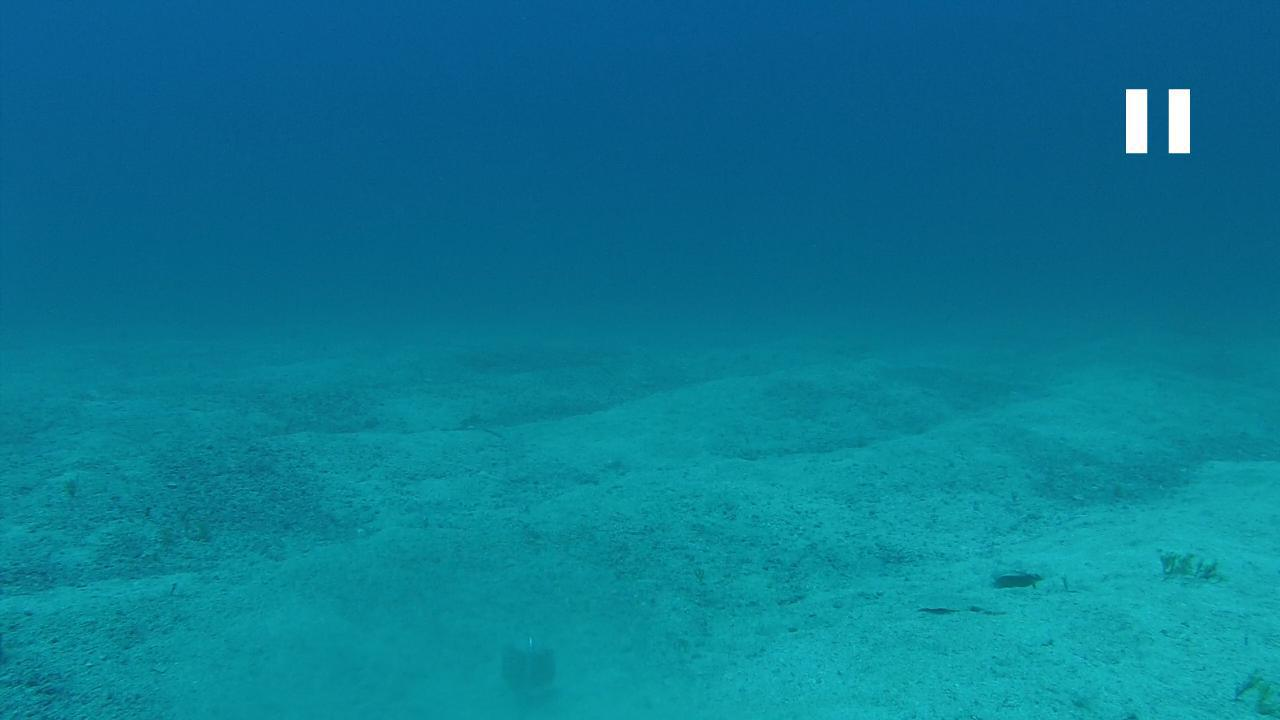bothus: (902, 586, 1012, 617), (974, 552, 1052, 593)
